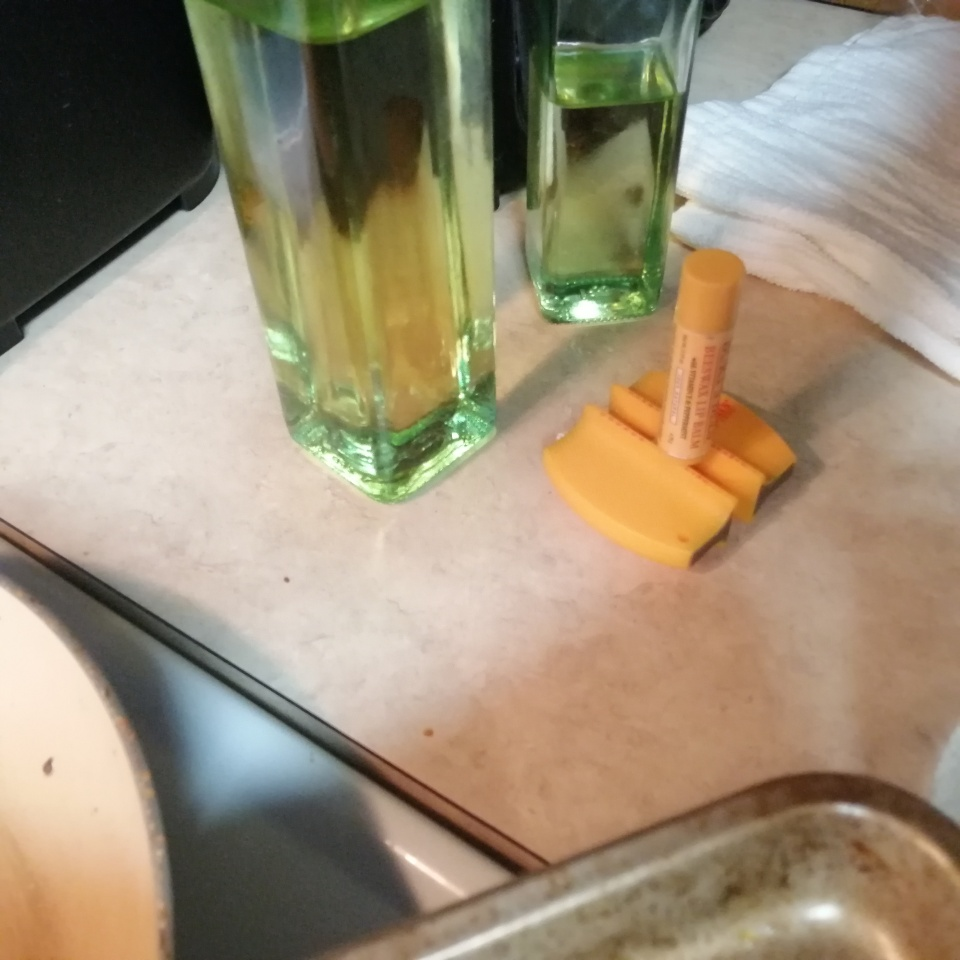chapstick: (658, 248, 746, 467)
